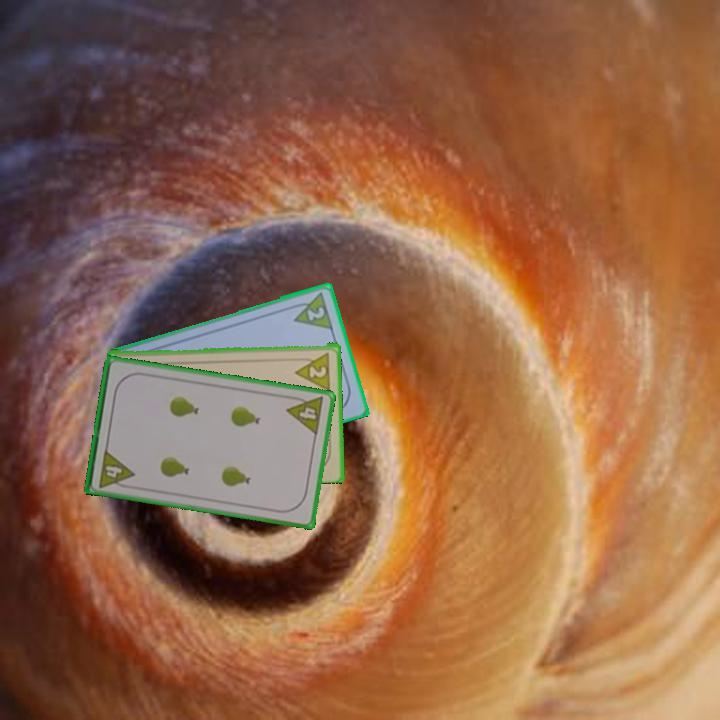2p: (287, 288, 336, 332), (292, 348, 333, 392)
4p: (283, 392, 327, 438), (95, 446, 137, 491)
